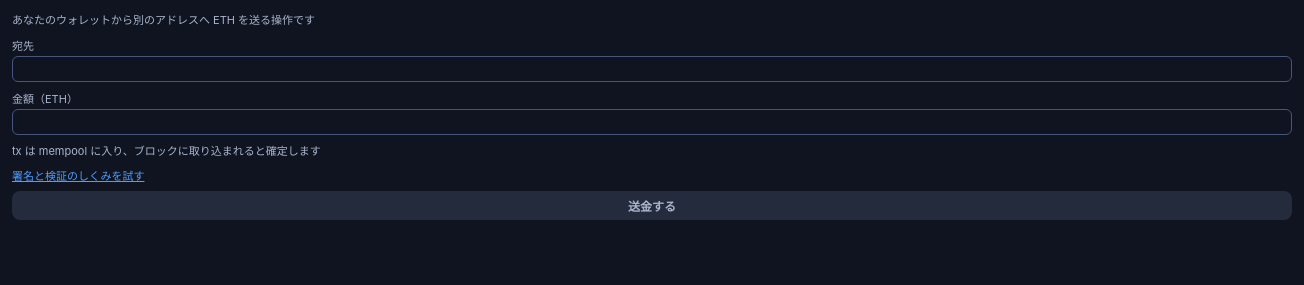
Scenario: TransferForm error coexistence and priority (Issue #236) › keeps submit disabled while only the destination is fixed but the amount stays invalid
The image size is (1304, 285).
Type "0x123" into the field with test id "operation-transfer-to" at (652,68), box [12,56,1292,82]
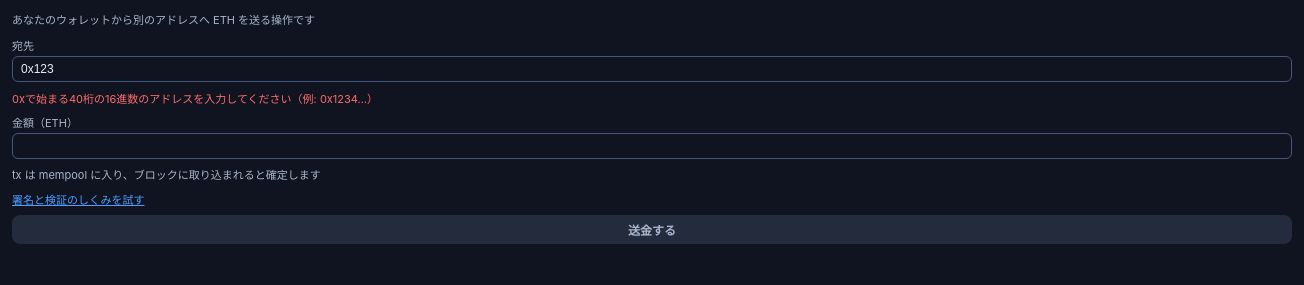
Type "not-a-number" into the field with test id "operation-transfer-amount" at (652,146), box [12,132,1292,158]
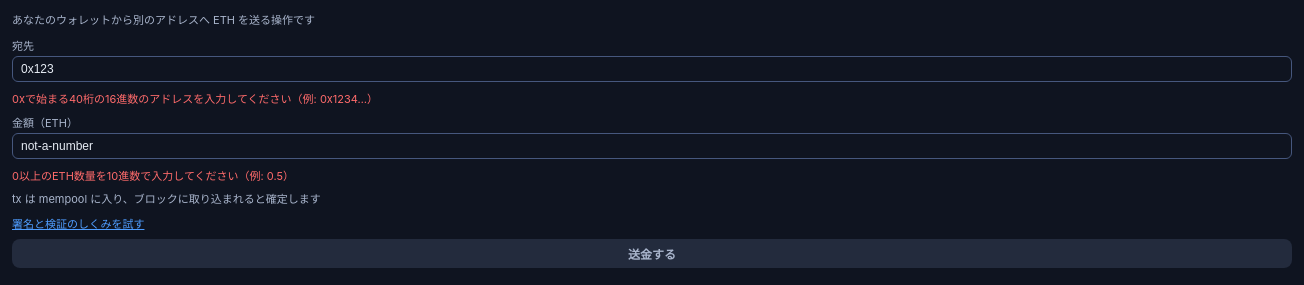
Replace the text in the field with test id "operation-transfer-to" with "0xbbbbbbbbbbbbbbbbbbbbbbbbbbbbbbbbbbbbbbbb" at (652,68), box [12,56,1292,82]
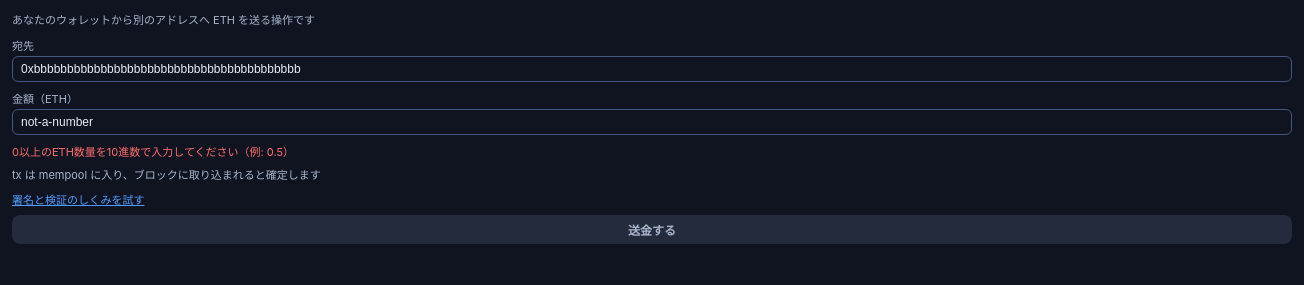
Expected: the button "送金する" is disabled, [12,215,1292,244]
Expected: the text "0以上のETH数量を10進数で入力してください（例: 0.5）" is shown, [12,144,294,158]
Expected: the text with test id "operation-transfer-to-error" is gone
